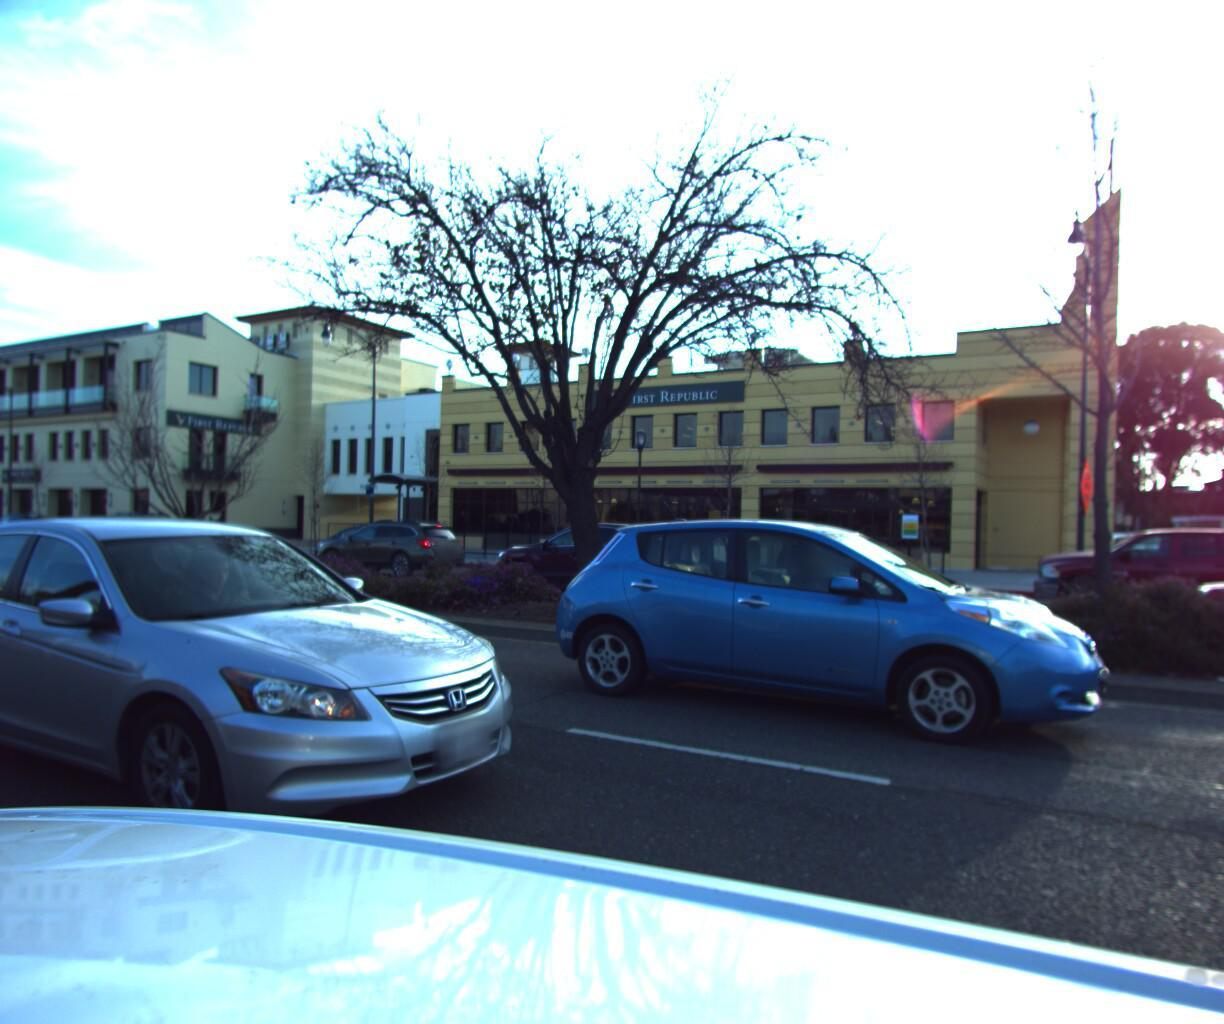car: (0, 508, 573, 910), (535, 510, 1098, 768), (1031, 511, 1224, 633), (484, 515, 725, 610), (51, 505, 231, 576), (302, 511, 470, 578), (1178, 537, 1224, 689), (302, 518, 422, 567), (72, 505, 178, 550), (0, 506, 61, 540), (0, 507, 1, 537)
